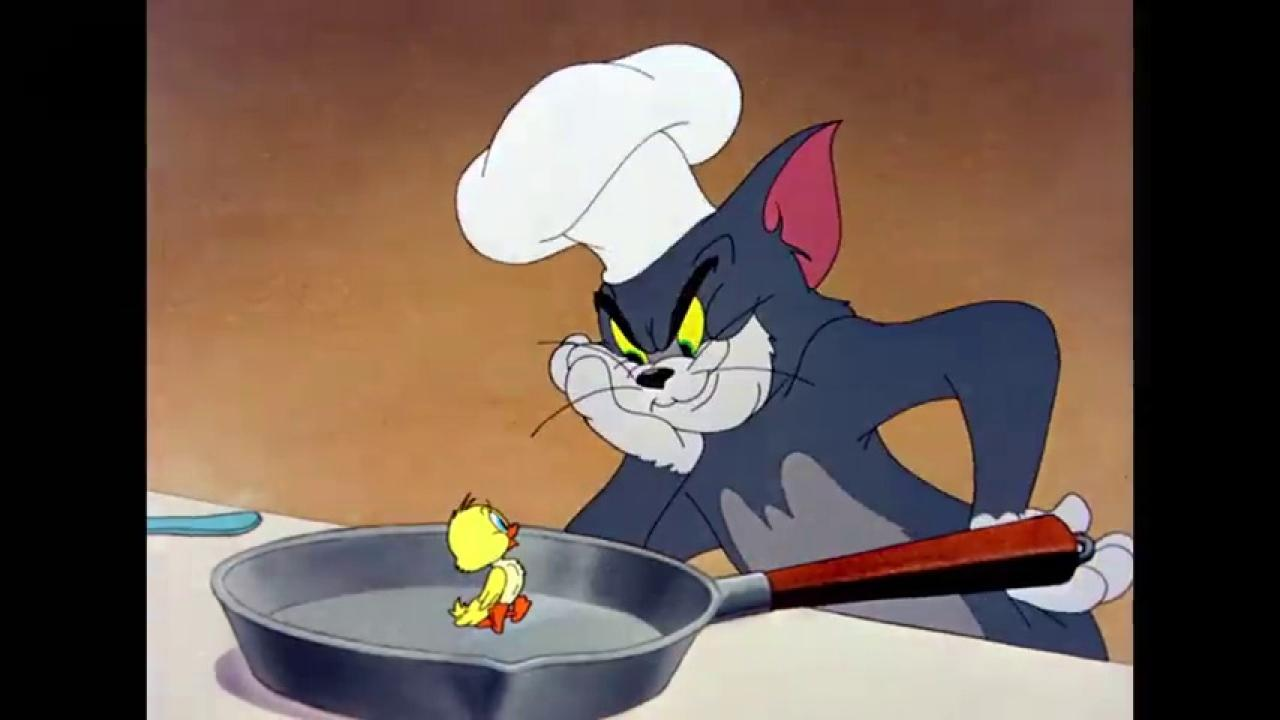Tom: (546, 118, 1133, 662)
